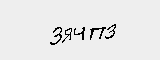З: (48, 24, 63, 48), (105, 21, 118, 41)
П: (89, 24, 105, 44)
Ч: (73, 24, 88, 41)
Я: (64, 25, 73, 44)
